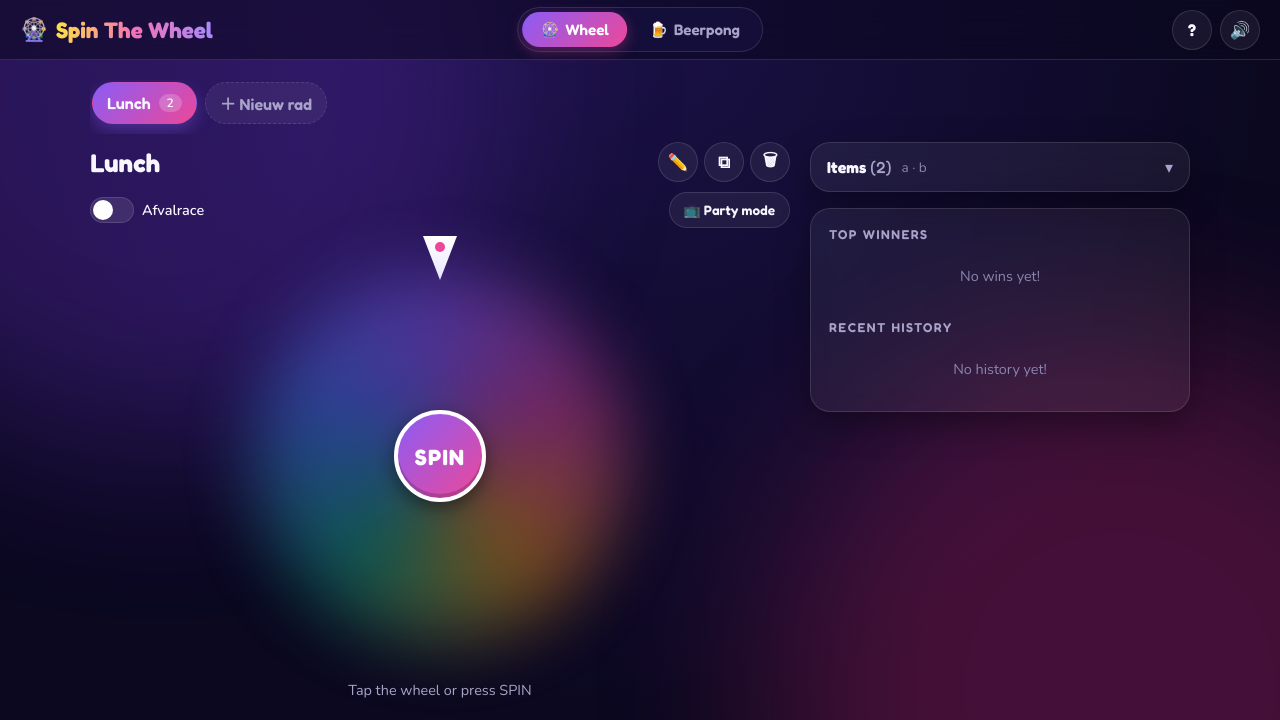
Test: navigation: wheel and beerpong tabs, help opens in a modal
Expected: the heading "Lunch" is shown, [90,146,160,178]
Click the button "🍺 Beerpong".
click(694, 30)  # box [631,12,758,47]
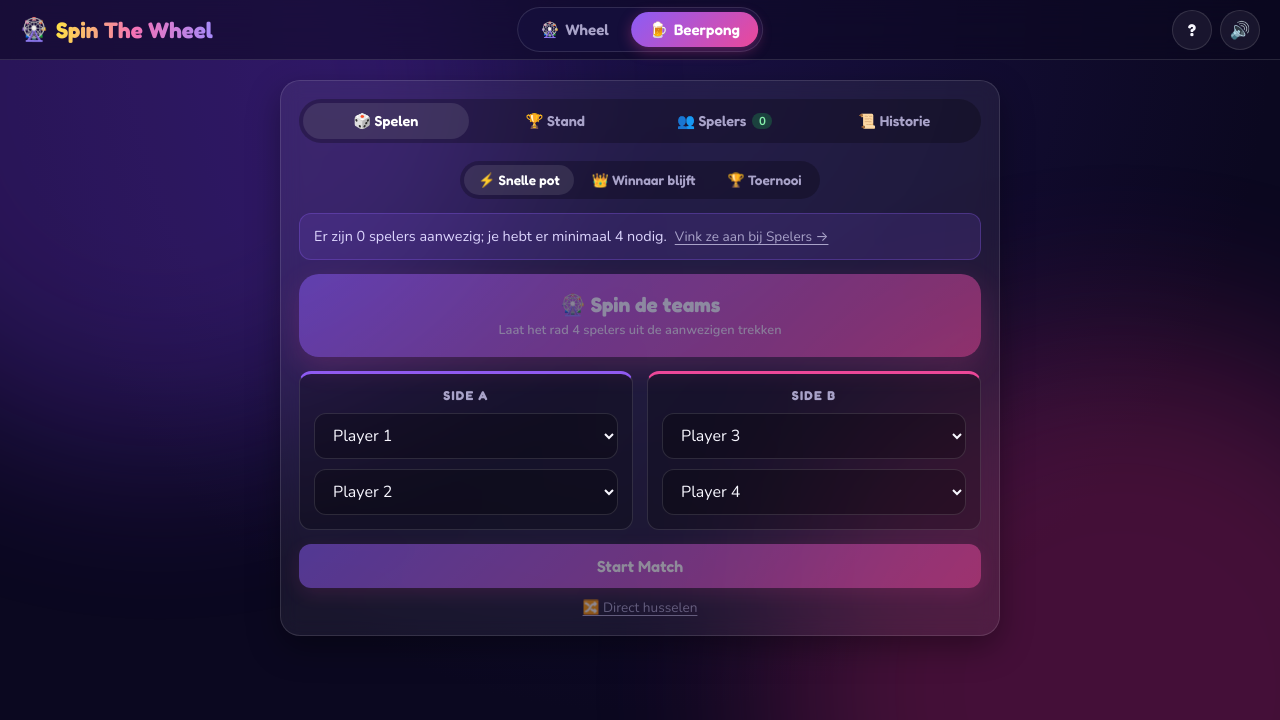
Now the tab "🎲 Spelen" is shown, box [303,103,468,139]
Click the button named "Handleiding".
click(1192, 30)  # box [1172,10,1212,50]
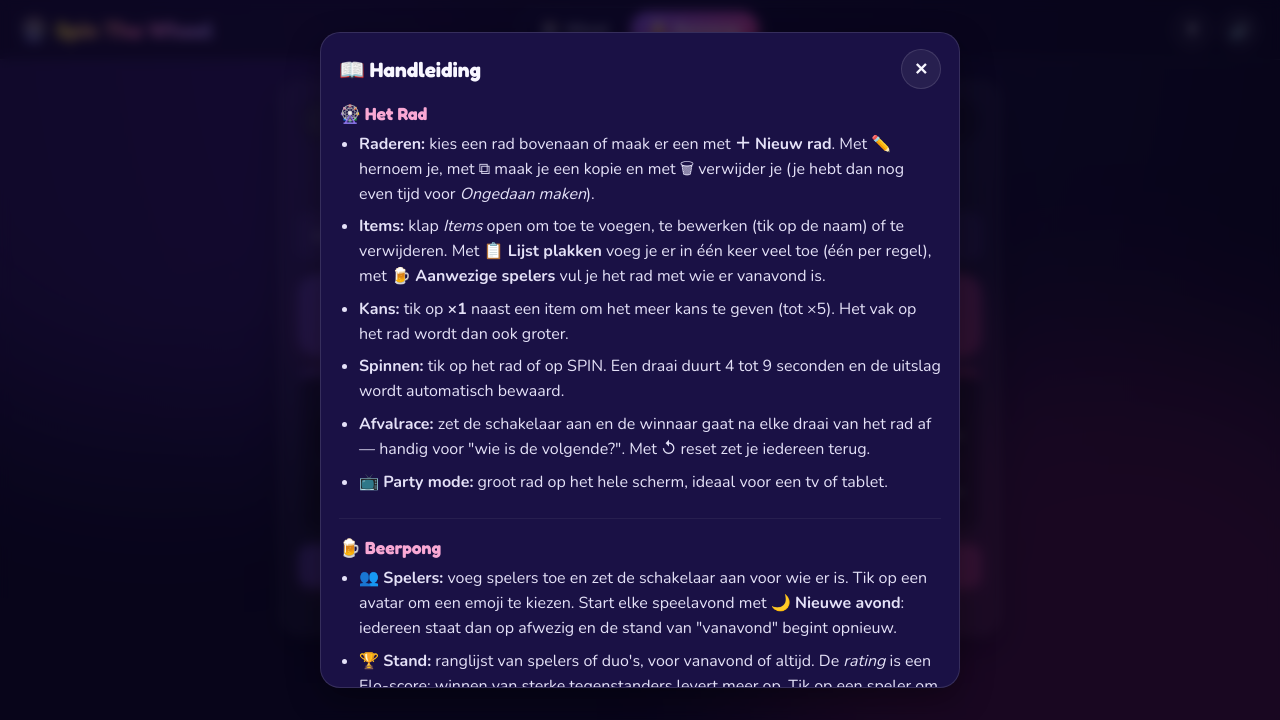
Now the text "Afvalrace:" is shown, box [359,413,434,435]
Press Escape
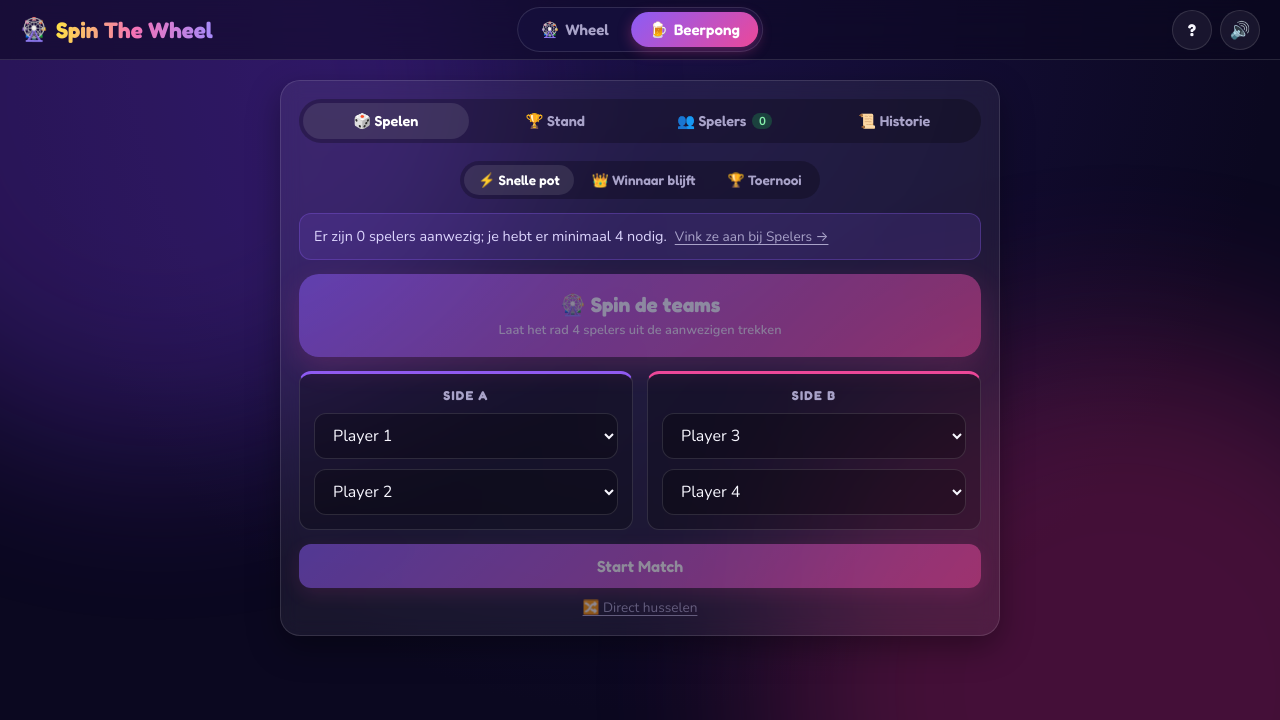
Now the heading "Handleiding" is gone
